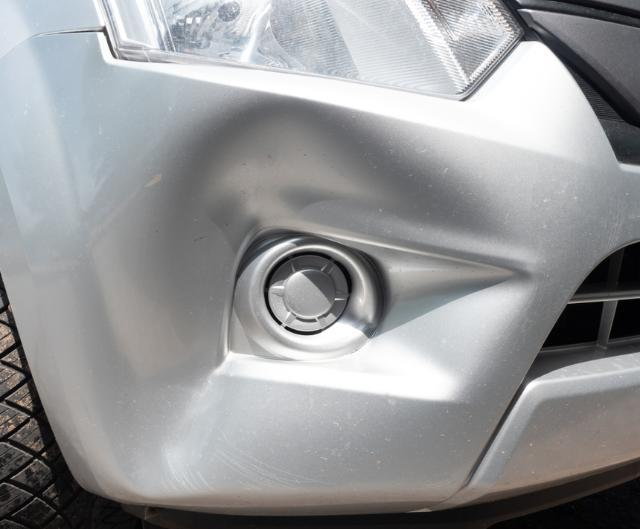Bumper: (104, 95, 573, 478)
